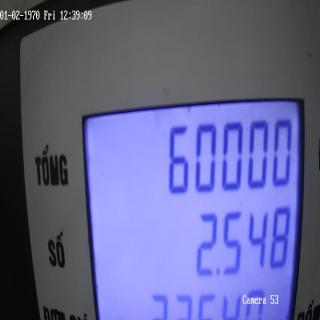screen: (78, 87, 306, 320)
